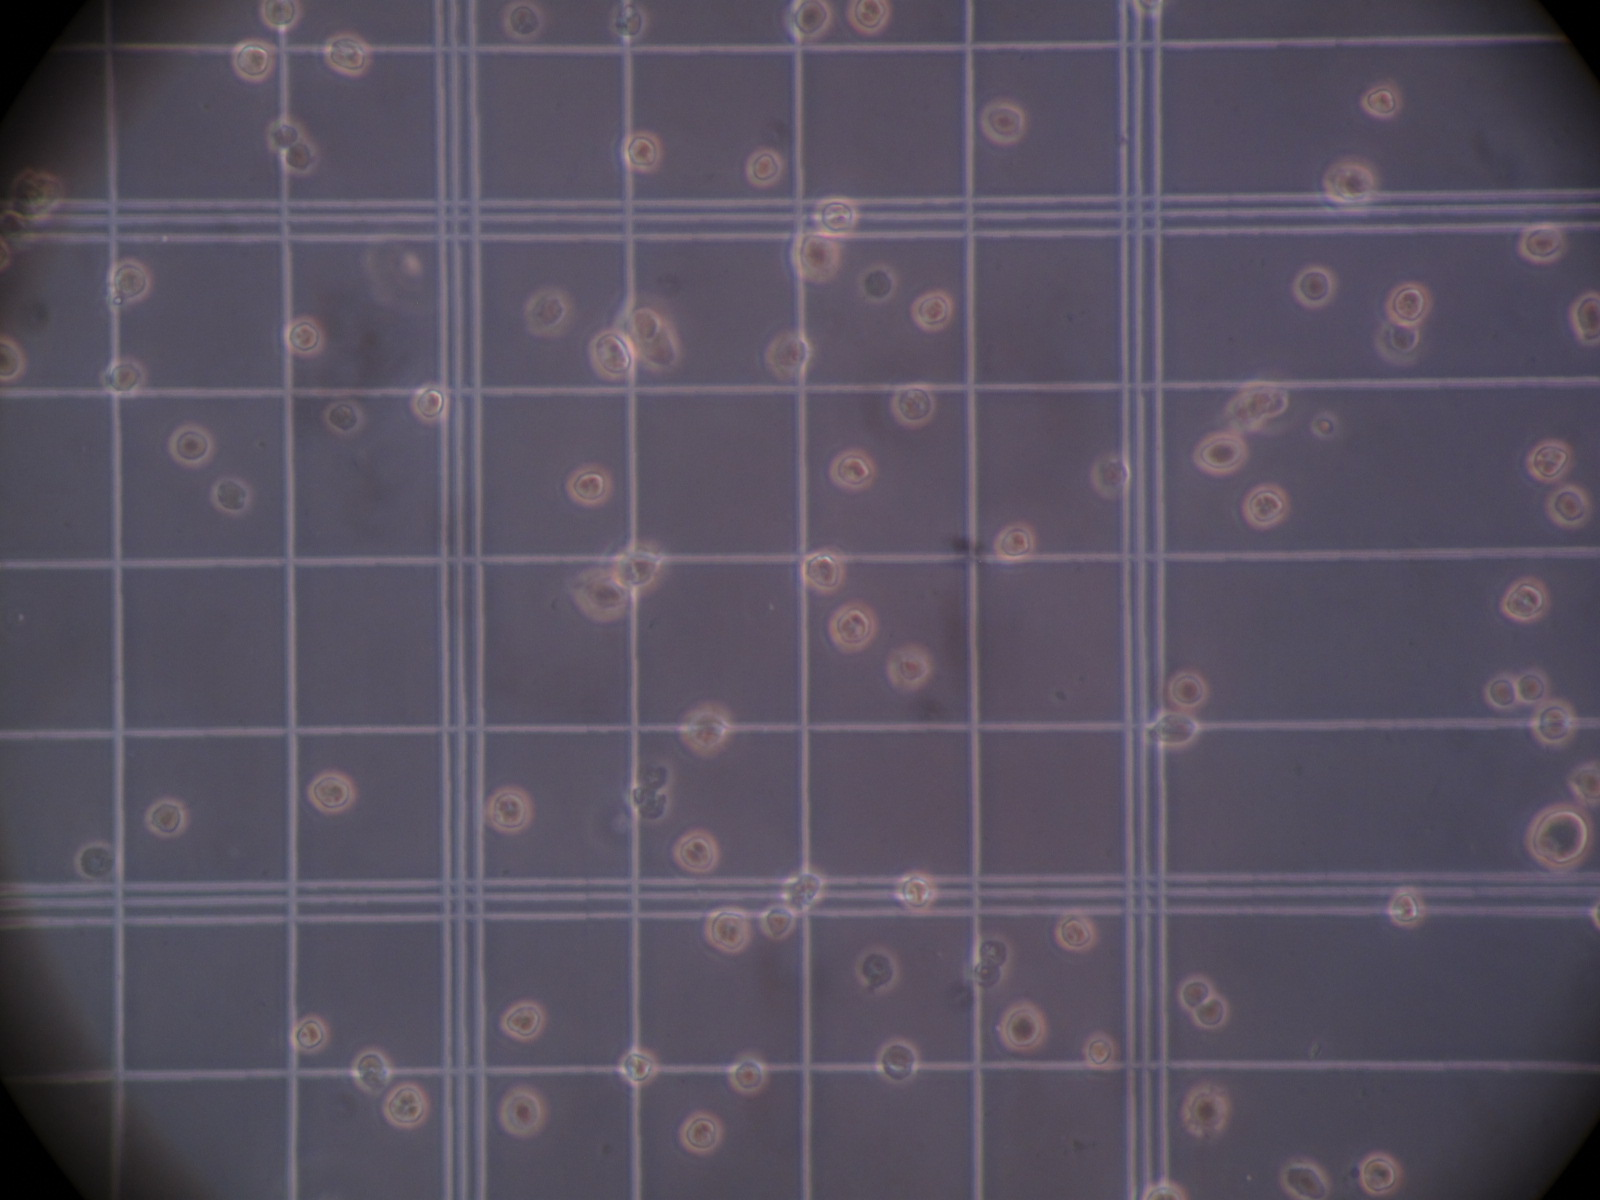hemo: (1526, 803, 1592, 872), (603, 536, 663, 596), (610, 292, 666, 352), (568, 568, 631, 621), (677, 702, 733, 758), (1322, 158, 1376, 216), (786, 228, 840, 282), (9, 166, 62, 219), (826, 601, 877, 652), (1529, 696, 1579, 747), (483, 784, 534, 832), (587, 328, 635, 379), (496, 1085, 543, 1138), (1500, 574, 1550, 623), (524, 284, 569, 337), (1145, 708, 1199, 753), (1524, 437, 1574, 485), (1183, 1087, 1228, 1138), (1192, 434, 1247, 475), (323, 32, 372, 78), (1383, 280, 1431, 326), (671, 827, 719, 874), (887, 644, 932, 693), (828, 446, 877, 492), (564, 463, 614, 508), (1373, 321, 1424, 366), (780, 1, 834, 42), (619, 130, 665, 176), (763, 329, 809, 377), (855, 945, 900, 995), (384, 1083, 430, 1129), (1243, 484, 1289, 529), (704, 908, 750, 953), (309, 770, 354, 816), (281, 315, 326, 361), (1002, 1003, 1046, 1050), (168, 424, 214, 468), (1358, 1152, 1403, 1196), (811, 195, 858, 238), (106, 260, 152, 303), (231, 37, 273, 83), (981, 98, 1026, 142), (1545, 487, 1590, 529), (876, 1037, 918, 1083), (679, 1109, 722, 1155), (781, 868, 824, 914), (499, 1000, 546, 1041), (891, 384, 937, 426), (1518, 223, 1566, 263), (72, 839, 120, 880), (1052, 911, 1096, 954), (1293, 263, 1333, 310), (910, 289, 952, 332), (727, 1053, 769, 1097), (1283, 1162, 1330, 1200), (994, 522, 1037, 563), (144, 797, 185, 839), (351, 1046, 391, 1092), (1570, 290, 1600, 347), (1091, 458, 1131, 499), (803, 551, 843, 592), (409, 382, 450, 424), (105, 355, 145, 397), (1385, 886, 1424, 929), (896, 871, 935, 914), (210, 476, 253, 516), (746, 147, 785, 189), (501, 1, 544, 39), (1168, 671, 1209, 708), (619, 1046, 656, 1087), (290, 1013, 328, 1053), (610, 3, 648, 42), (323, 398, 363, 435), (847, 1, 891, 34), (1082, 1030, 1116, 1071), (1569, 761, 1600, 805), (266, 116, 304, 153), (1191, 996, 1230, 1031), (280, 139, 317, 174), (1362, 84, 1401, 118), (761, 905, 796, 940), (1485, 673, 1519, 710), (1, 333, 26, 382), (1179, 973, 1213, 1008), (1519, 669, 1550, 706), (1143, 1180, 1189, 1200)
